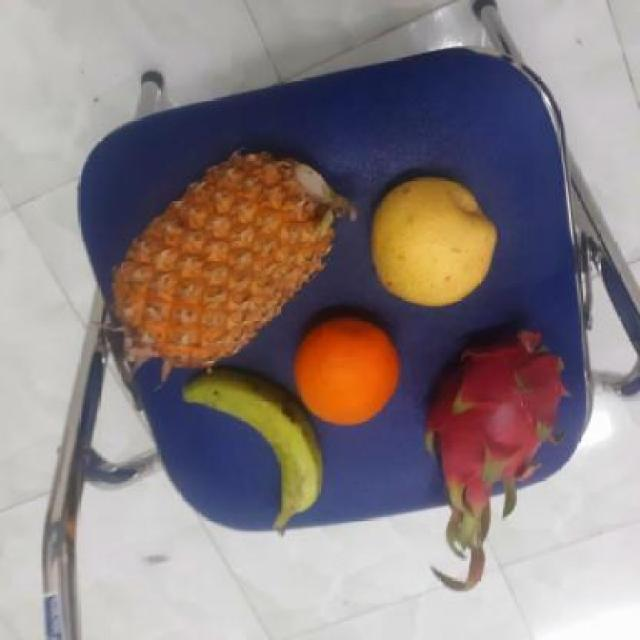dragon fruit: (418, 323, 562, 499)
oren: (289, 312, 403, 426)
pear: (360, 177, 498, 306)
pineapple: (107, 152, 345, 366)
